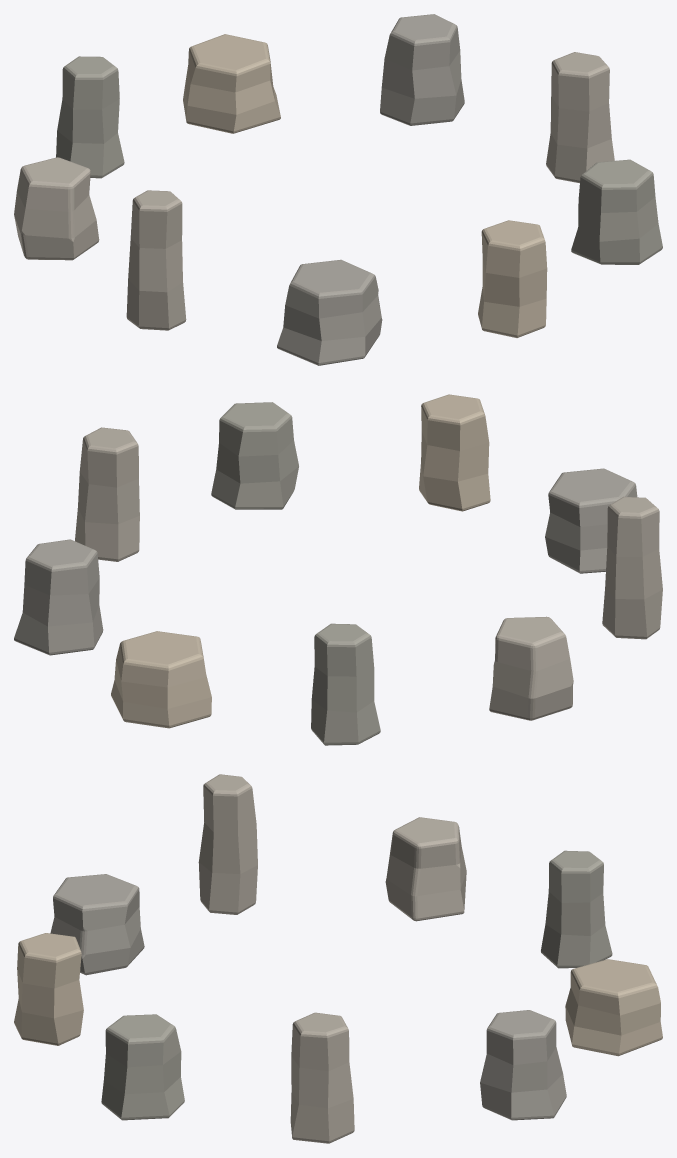
File: 45-Arte3D_anillo_piedras_ritual.glb
3 renders of one model, top to bottom at view 1: azimuth 30°, elevation 25°; view 2: azimuth 150°, elevation 25°; view 3: azimuth 270°, elevation 25°, orthographic. The views are drawn at different scales.
Visible parts, largest first — view 1: SM_Anillo_Piedra_6, SM_Anillo_Piedra_1, SM_Anillo_Piedra_8, SM_Anillo_Piedra_2, SM_Anillo_Piedra_5, SM_Anillo_Piedra_4, SM_Anillo_Piedra_7, SM_Anillo_Piedra_0, SM_Anillo_Piedra_3; view 2: SM_Anillo_Piedra_1, SM_Anillo_Piedra_2, SM_Anillo_Piedra_8, SM_Anillo_Piedra_5, SM_Anillo_Piedra_0, SM_Anillo_Piedra_4, SM_Anillo_Piedra_7, SM_Anillo_Piedra_3, SM_Anillo_Piedra_6; view 3: SM_Anillo_Piedra_1, SM_Anillo_Piedra_2, SM_Anillo_Piedra_8, SM_Anillo_Piedra_0, SM_Anillo_Piedra_5, SM_Anillo_Piedra_4, SM_Anillo_Piedra_6, SM_Anillo_Piedra_7, SM_Anillo_Piedra_3.
Boxes of the visible parts, x1=… form: SM_Anillo_Piedra_6: x1=277, y1=259, x2=382, y2=365; SM_Anillo_Piedra_1: x1=380, y1=14, x2=464, y2=125; SM_Anillo_Piedra_8: x1=571, y1=159, x2=662, y2=264; SM_Anillo_Piedra_2: x1=183, y1=34, x2=280, y2=133; SM_Anillo_Piedra_5: x1=126, y1=190, x2=186, y2=330; SM_Anillo_Piedra_4: x1=14, y1=157, x2=99, y2=260; SM_Anillo_Piedra_7: x1=478, y1=220, x2=547, y2=337; SM_Anillo_Piedra_0: x1=546, y1=52, x2=614, y2=183; SM_Anillo_Piedra_3: x1=56, y1=56, x2=124, y2=178; SM_Anillo_Piedra_1: x1=14, y1=539, x2=103, y2=655; SM_Anillo_Piedra_2: x1=111, y1=631, x2=211, y2=728; SM_Anillo_Piedra_8: x1=211, y1=402, x2=298, y2=509; SM_Anillo_Piedra_5: x1=602, y1=496, x2=662, y2=639; SM_Anillo_Piedra_0: x1=75, y1=427, x2=139, y2=561; SM_Anillo_Piedra_4: x1=489, y1=616, x2=573, y2=720; SM_Anillo_Piedra_7: x1=419, y1=394, x2=490, y2=511; SM_Anillo_Piedra_3: x1=311, y1=623, x2=380, y2=745; SM_Anillo_Piedra_6: x1=545, y1=468, x2=637, y2=573; SM_Anillo_Piedra_1: x1=480, y1=1010, x2=566, y2=1120; SM_Anillo_Piedra_2: x1=565, y1=959, x2=662, y2=1056; SM_Anillo_Piedra_8: x1=101, y1=1014, x2=184, y2=1120; SM_Anillo_Piedra_0: x1=290, y1=1012, x2=354, y2=1143; SM_Anillo_Piedra_5: x1=198, y1=774, x2=257, y2=914; SM_Anillo_Piedra_4: x1=385, y1=817, x2=466, y2=921; SM_Anillo_Piedra_6: x1=50, y1=874, x2=144, y2=975; SM_Anillo_Piedra_7: x1=14, y1=933, x2=83, y2=1045; SM_Anillo_Piedra_3: x1=541, y1=850, x2=612, y2=968.
Size of the model in its own units: 2.84 by 0.62 by 3.01.
